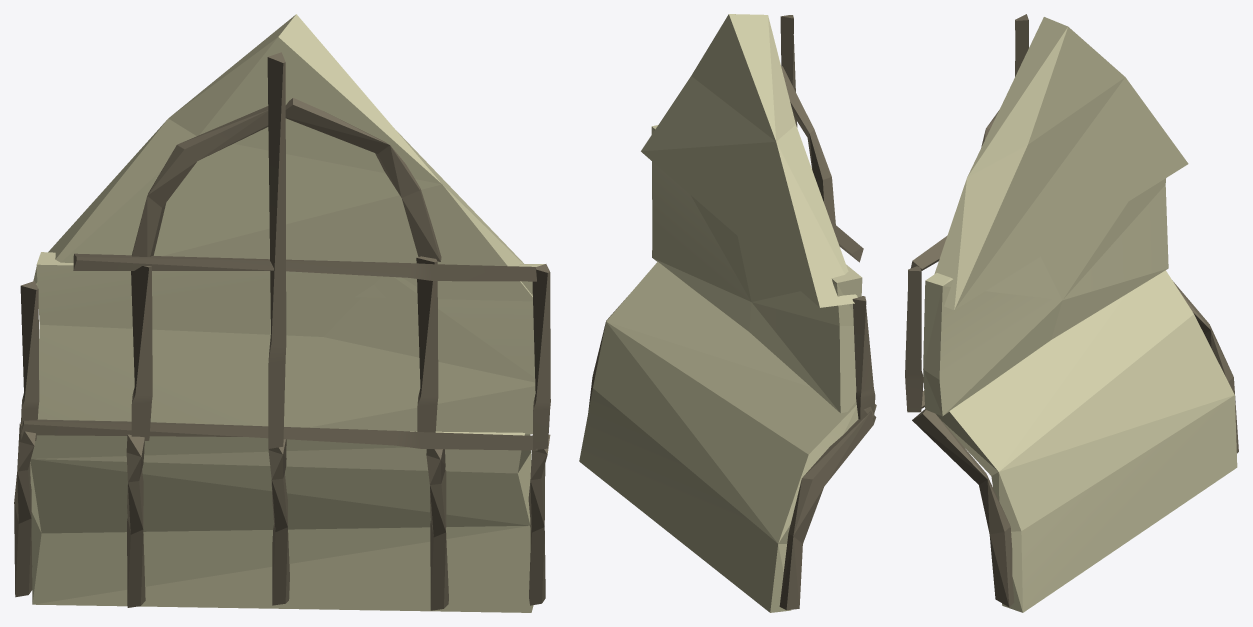
Rendered from RedTopSideWall.fbx.
3 renders of one model, left to right at view 1: azimuth 30°, elevation 25°; view 2: azimuth 150°, elevation 25°; view 3: azimuth 270°, elevation 25°, orthographic. The views are drawn at different scales.
Visible parts, largest first — view 1: RedTopSideWall_Merged; view 2: RedTopSideWall_Merged; view 3: RedTopSideWall_Merged.
Part boxes in pixels (bbox=[...]): RedTopSideWall_Merged: bbox=[14, 14, 550, 612]; RedTopSideWall_Merged: bbox=[579, 14, 876, 612]; RedTopSideWall_Merged: bbox=[905, 14, 1238, 612].
Bounding box in the file's own units: 567 × 760 × 458.
